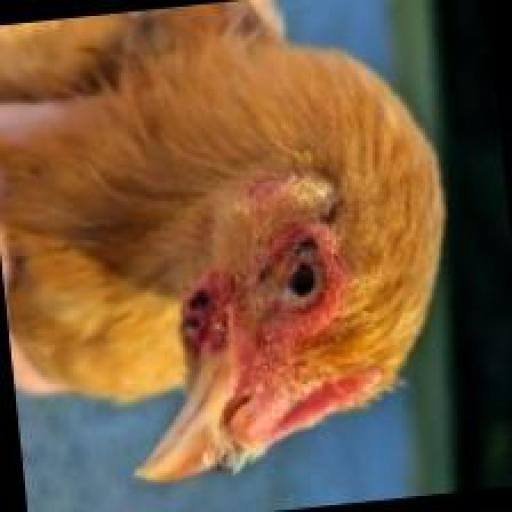disease: (250, 219, 339, 336), (163, 263, 235, 371), (202, 422, 267, 491)
